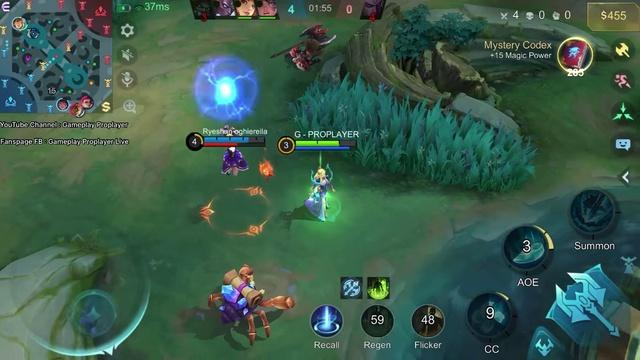Adc_Aliado: (75, 107, 88, 118)
Adc_Enemigo: (82, 96, 94, 109)
Arbusto: (290, 76, 536, 191)
Cangrejo_Exp: (208, 264, 294, 344)
EXP_Lane: (0, 0, 10, 13)
Gold_Lane: (100, 102, 115, 115)
Guinever: (221, 141, 248, 175), (220, 125, 240, 135)
HP_Aliado: (202, 136, 265, 143)
HP_Heroe_Principal: (296, 139, 357, 147)
Jungla_Aliado: (11, 15, 23, 30)
Mana: (297, 147, 355, 151)
Mid_Aliado: (20, 17, 28, 31)
Minimapa: (0, 0, 114, 114)
Pasiva_Guinever: (204, 143, 264, 148)
Roamer_Aliado: (56, 97, 70, 113)
Roamer_Enemigo: (70, 104, 82, 116)
Vexana: (304, 167, 333, 221)
